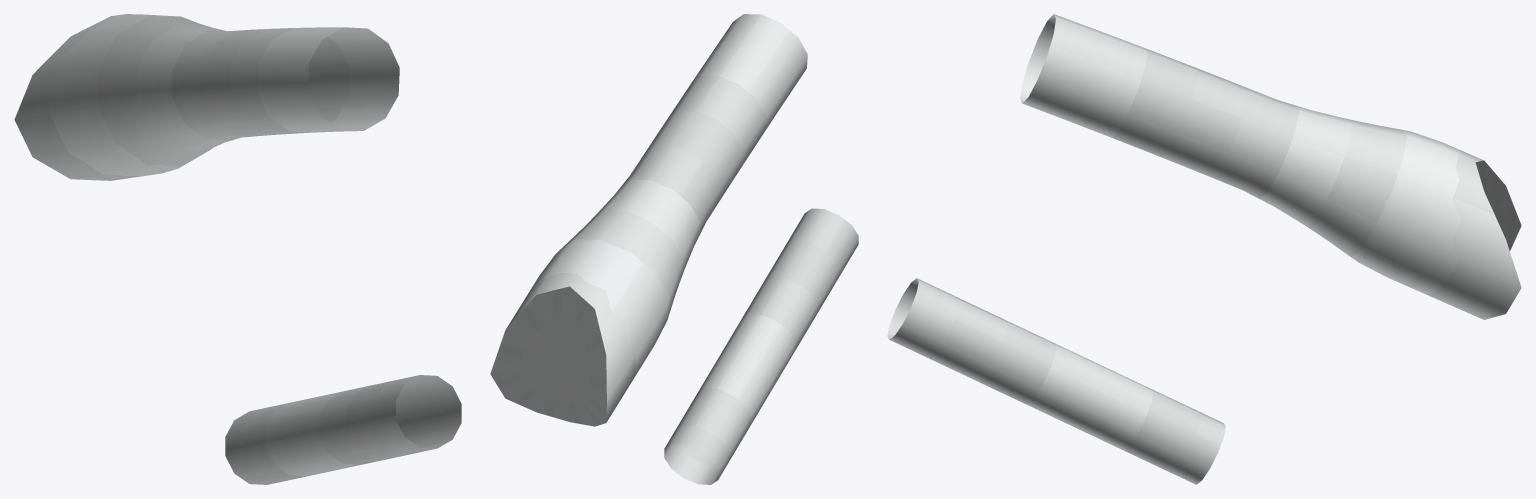
File: luminairearm_truss15ftdouble_c11_pedestal.obj
The picture shows the model from 3 angles, left to right: view 1: azimuth 30°, elevation 25°; view 2: azimuth 150°, elevation 25°; view 3: azimuth 270°, elevation 25°; orthographic projection. The views are drawn at different scales.
Parts seen in each view (by area): view 1: luminairearm_truss15ftdouble_c11_pedestal; view 2: luminairearm_truss15ftdouble_c11_pedestal; view 3: luminairearm_truss15ftdouble_c11_pedestal.
Part boxes in pixels (left/top/right/bottom): luminairearm_truss15ftdouble_c11_pedestal: left=14, top=14, right=461, bottom=484; luminairearm_truss15ftdouble_c11_pedestal: left=490, top=14, right=858, bottom=484; luminairearm_truss15ftdouble_c11_pedestal: left=887, top=14, right=1521, bottom=484.
Size of the model in its own units: 0.3375 by 1.17 by 1.45.
